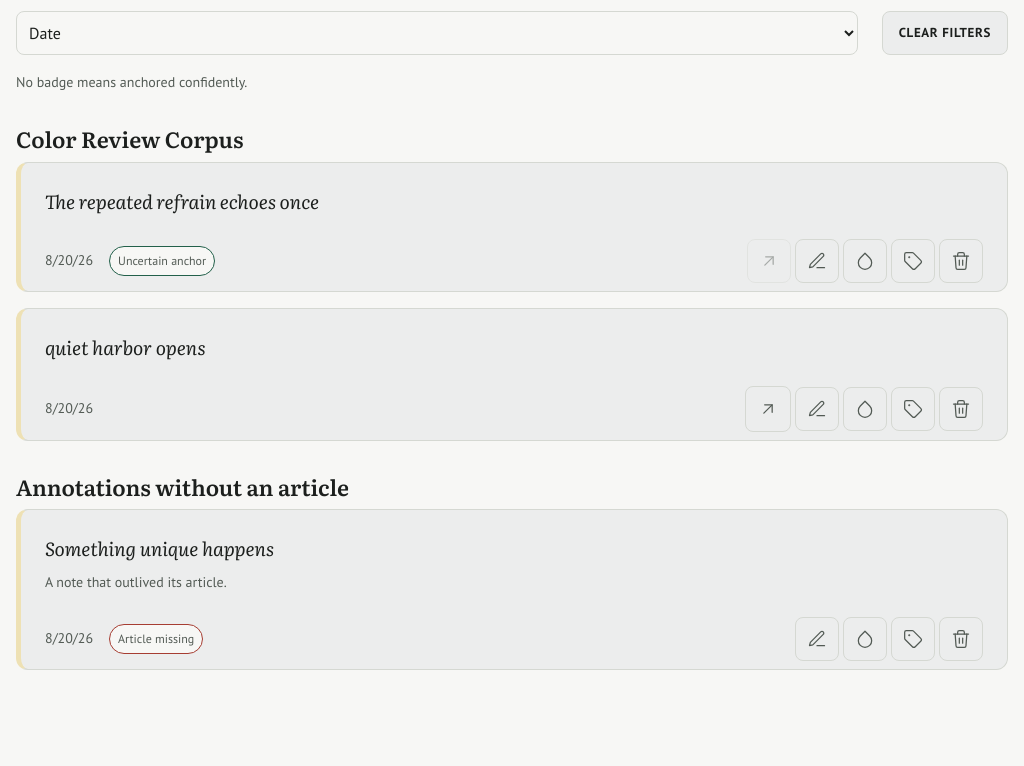
Test: ReviewView highlight colors (issue #119) › orphan-tail row: recolor works, 'Article missing' badge + note survive
(page scrolled)
Click the button named "Change color, currently Neutral: Something unique happens": (865, 639) [843,617,887,661]
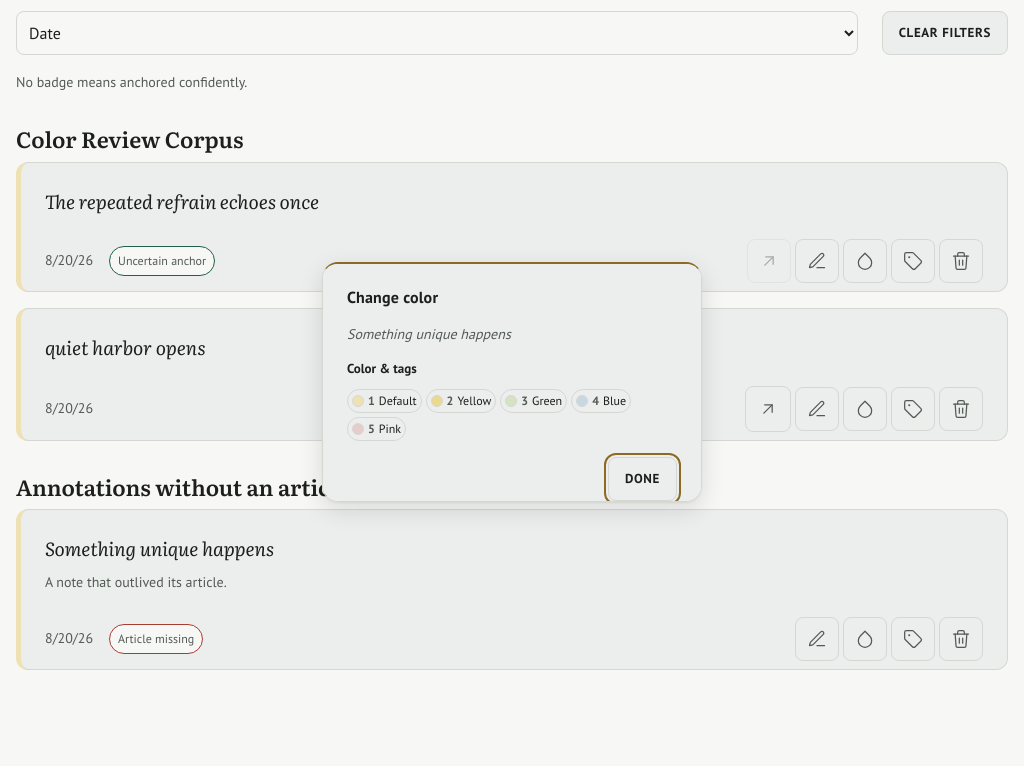
Click the button with aria-label "Apply slot 2: Yellow": (461, 401) [426,389,496,413]
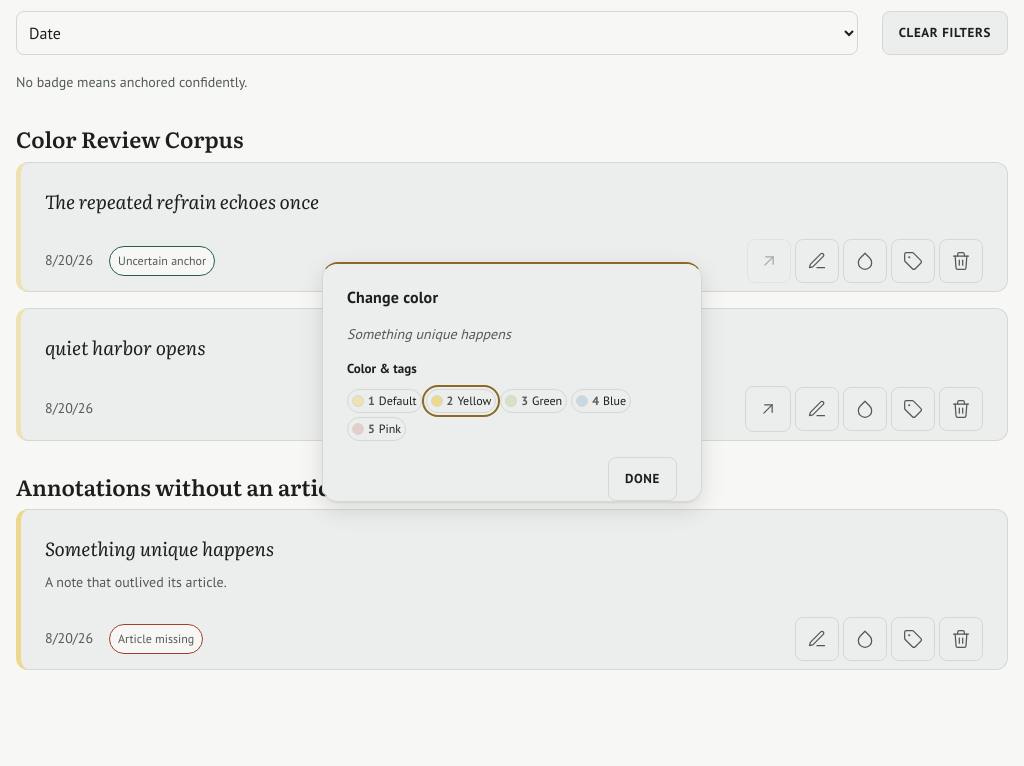
Expected: the text with class "review-badge-orphan" reads "Article missing", [118,631,194,646]
Result: the list item has class "review-item-color-yellow" at [16,509,1008,670]
